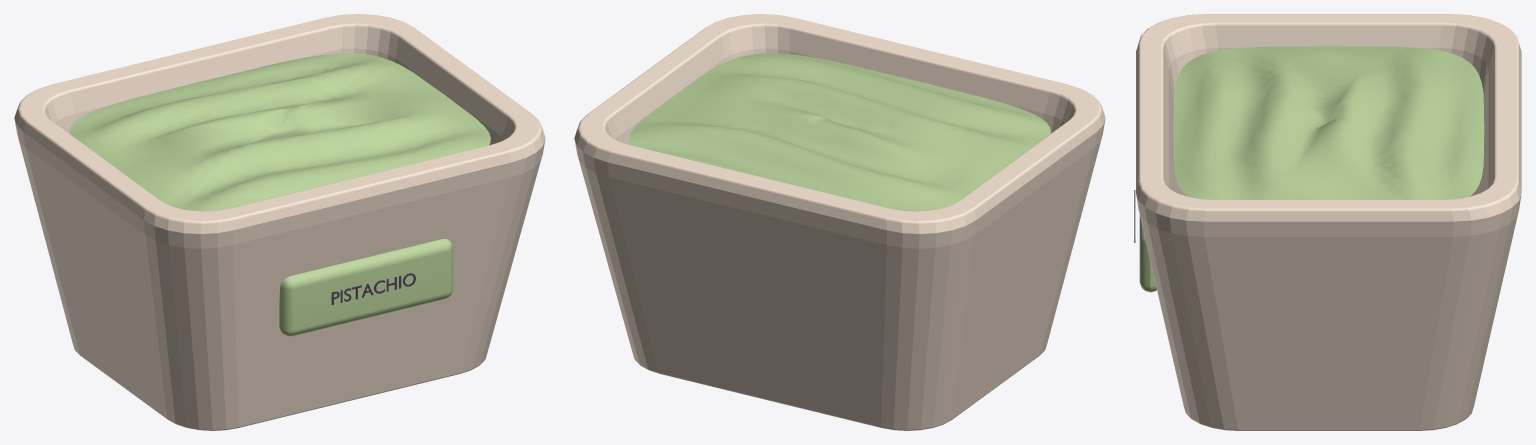
Rendered from Pistachio_tub.fbx.
3 renders of one model, left to right at view 1: azimuth 30°, elevation 25°; view 2: azimuth 150°, elevation 25°; view 3: azimuth 270°, elevation 25°, orthographic. The views are drawn at different scales.
Parts seen in each view (by area): view 1: Toon_Pistachio_tub Rounded reusable tub.001, Toon_Pistachio_tub Ice cream fill.001, Toon_Pistachio_tub Flavor badge.001, Flavor name.012; view 2: Toon_Pistachio_tub Rounded reusable tub.001, Toon_Pistachio_tub Ice cream fill.001; view 3: Toon_Pistachio_tub Rounded reusable tub.001, Toon_Pistachio_tub Ice cream fill.001, Toon_Pistachio_tub Flavor badge.001.
Part boxes in pixels (<box>): Toon_Pistachio_tub Rounded reusable tub.001: <box>14,14,545,430</box>; Toon_Pistachio_tub Ice cream fill.001: <box>69,53,490,211</box>; Toon_Pistachio_tub Flavor badge.001: <box>279,239,452,336</box>; Flavor name.012: <box>331,273,415,304</box>; Toon_Pistachio_tub Rounded reusable tub.001: <box>574,14,1105,430</box>; Toon_Pistachio_tub Ice cream fill.001: <box>629,53,1050,211</box>; Toon_Pistachio_tub Rounded reusable tub.001: <box>1136,14,1521,430</box>; Toon_Pistachio_tub Ice cream fill.001: <box>1173,46,1484,199</box>; Toon_Pistachio_tub Flavor badge.001: <box>1139,215,1156,292</box>.
Bounding box in the file's own units: 39 × 22.17 × 32.14.
